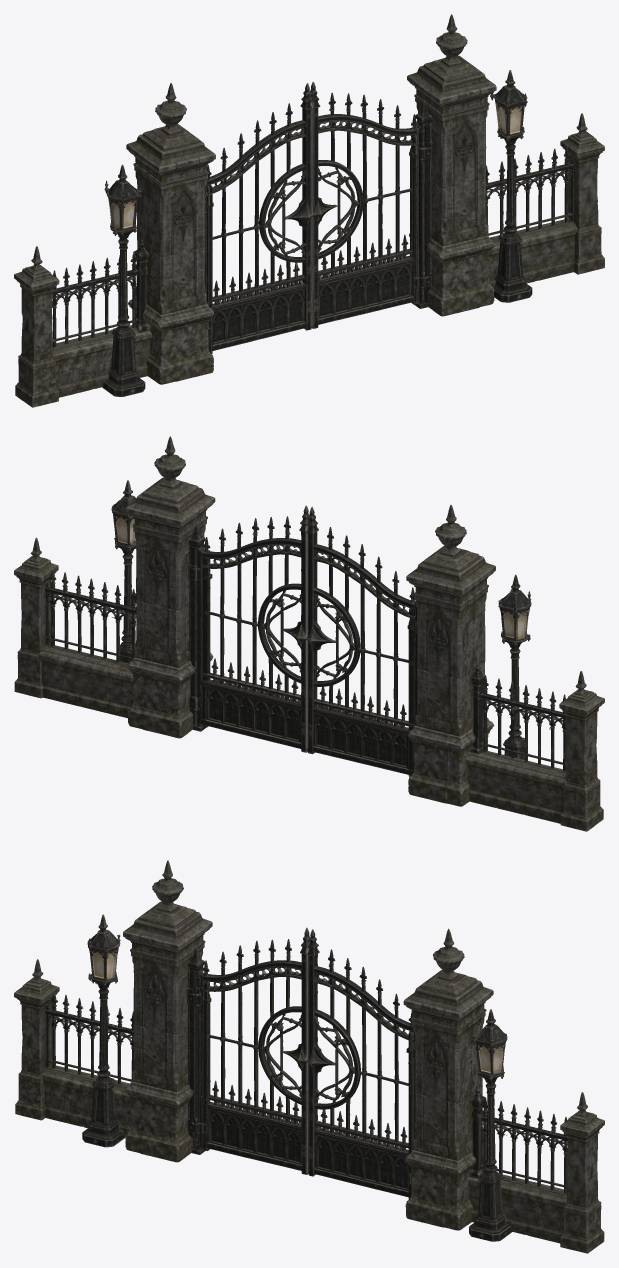
Rendered from Horror_Manor Gate_DKB.glb.
3 renders of one model, top to bottom at view 1: azimuth 30°, elevation 25°; view 2: azimuth 150°, elevation 25°; view 3: azimuth 330°, elevation 25°, orthographic.
Size of the model in its own units: 1.9 by 0.9042 by 0.1948.
1 material, 1 textured.
